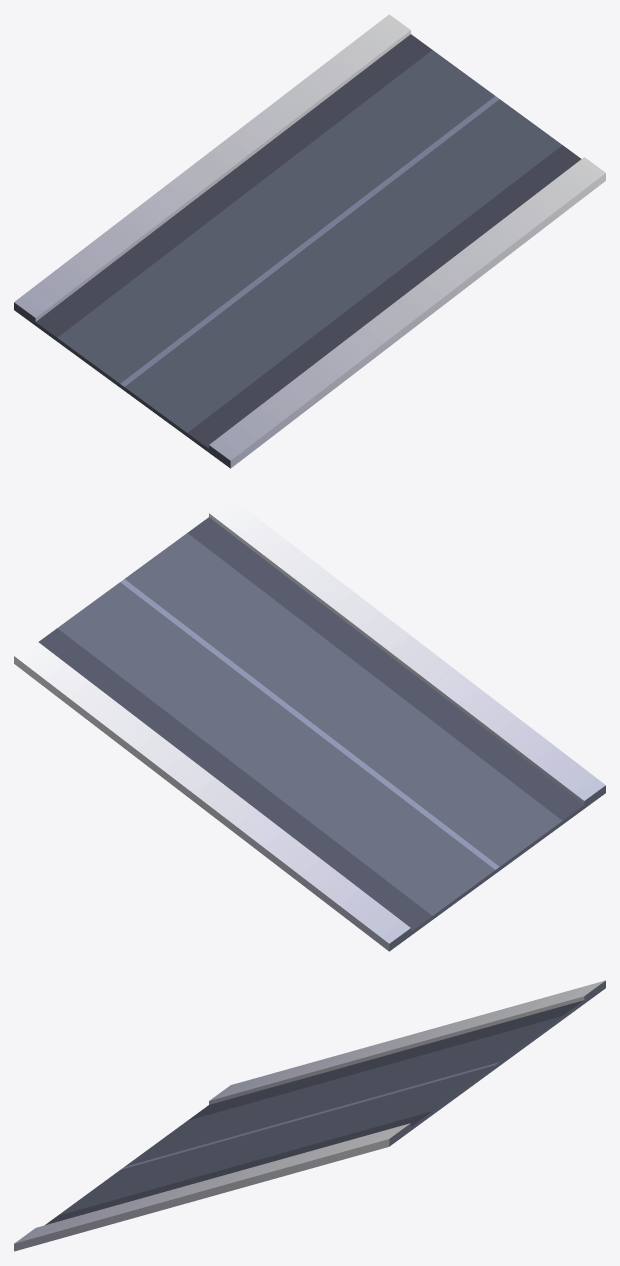
The model's file is road-slant-flat-high.glb.
The picture shows the model from 3 angles, top to bottom: view 1: azimuth 30°, elevation 25°; view 2: azimuth 150°, elevation 25°; view 3: azimuth 330°, elevation 25°; orthographic projection.
Visible parts, largest first — view 1: road-slant-flat-high; view 2: road-slant-flat-high; view 3: road-slant-flat-high.
Part boxes in pixels (<box>): road-slant-flat-high: <box>14,14,605,468</box>; road-slant-flat-high: <box>14,497,605,951</box>; road-slant-flat-high: <box>14,980,605,1251</box>.
Bounding box in the file's own units: 1 × 0.52 × 1.
1 material, 1 textured.
